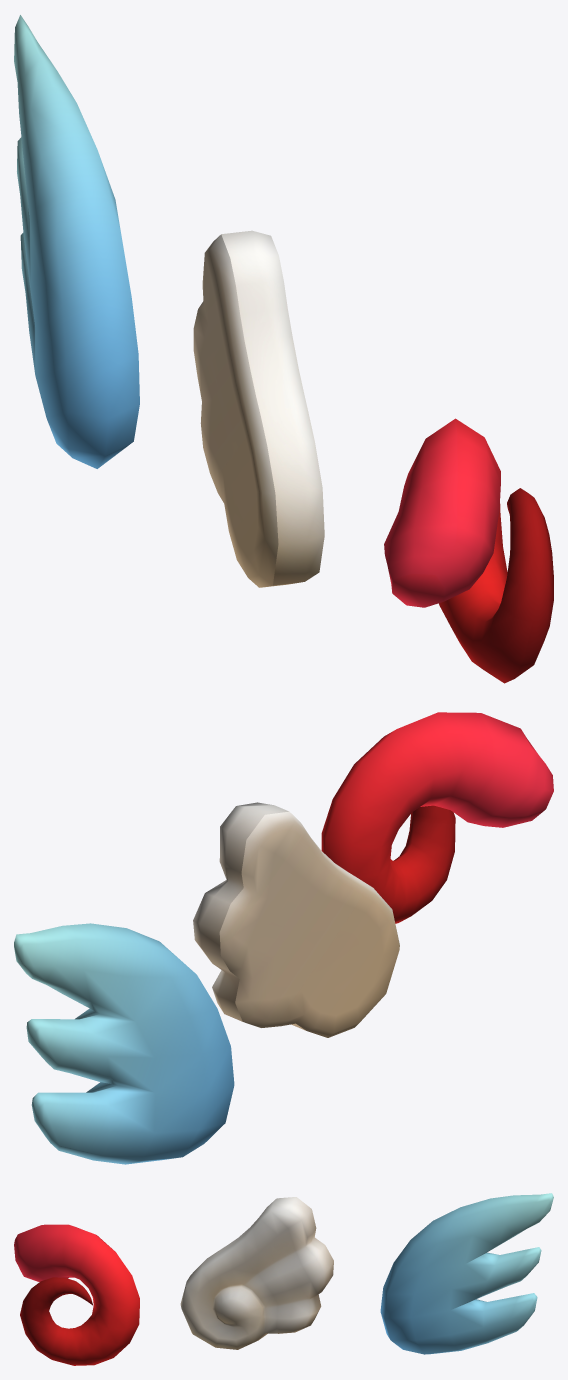
The model's file is WingsHorns.fbx.
3 renders of one model, top to bottom at view 1: azimuth 30°, elevation 25°; view 2: azimuth 150°, elevation 25°; view 3: azimuth 270°, elevation 25°, orthographic. The views are drawn at different scales.
Parts seen in each view (by area): view 1: Wings2, Wings1, Horns; view 2: Wings2, Wings1, Horns; view 3: Wings2, Wings1, Horns.
Part boxes in pixels (bbox=[...]): Wings2: bbox=[14, 15, 139, 468]; Wings1: bbox=[193, 230, 324, 587]; Horns: bbox=[384, 418, 553, 683]; Wings2: bbox=[14, 923, 234, 1164]; Wings1: bbox=[193, 802, 399, 1037]; Horns: bbox=[321, 712, 553, 923]; Wings2: bbox=[380, 1193, 553, 1354]; Wings1: bbox=[180, 1197, 333, 1349]; Horns: bbox=[14, 1224, 139, 1365].
Size of the model in its own units: 7.26 by 12.63 by 35.35.
3 materials, 3 textured.
